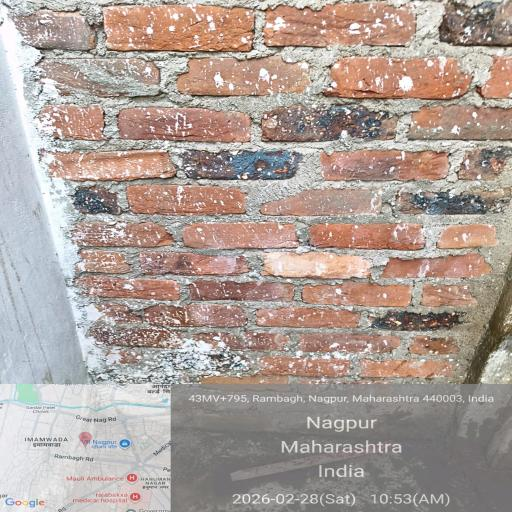partial_dirty_floor: (0, 4, 512, 388)
